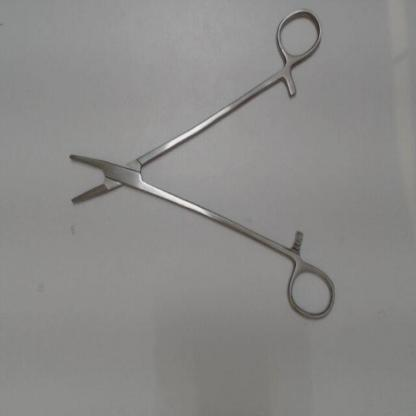8 Mayo Needle Holder: (61, 1, 345, 328)
